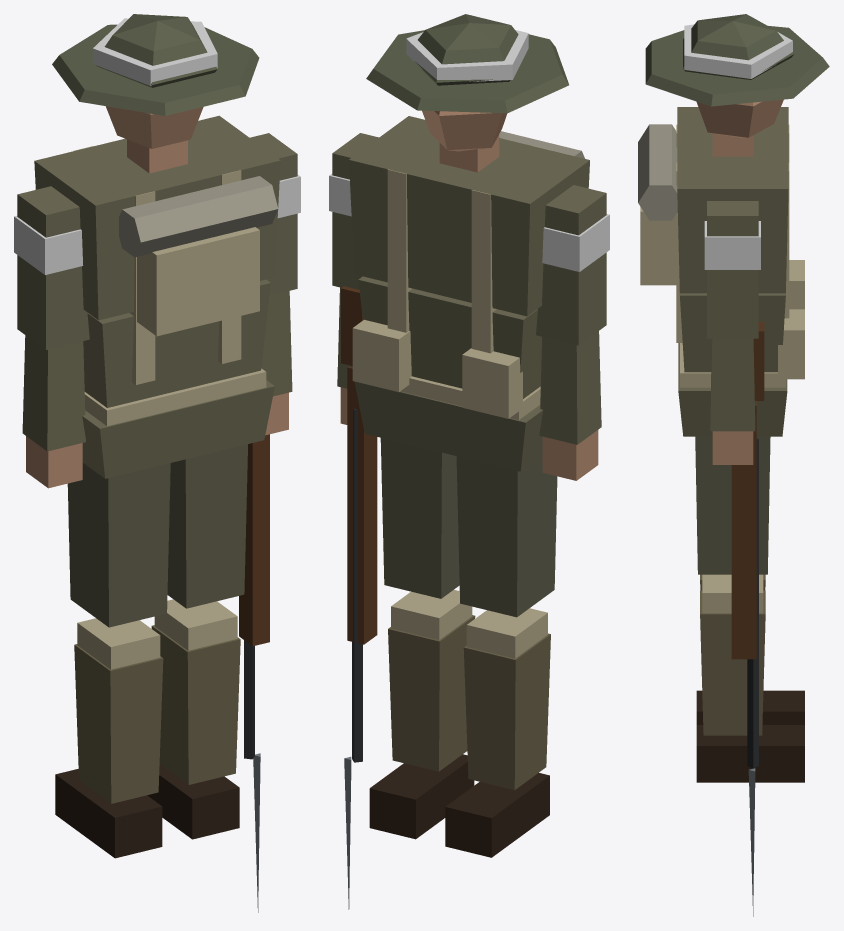
File: soldier_c20_rifle_lod1.glb
The picture shows the model from 3 angles, left to right: view 1: azimuth 30°, elevation 25°; view 2: azimuth 150°, elevation 25°; view 3: azimuth 270°, elevation 25°; orthographic projection. The views are drawn at different scales.
Parts seen in each view (by area): view 1: c20_rifle_lod1_static; view 2: c20_rifle_lod1_static; view 3: c20_rifle_lod1_static.
Boxes of the visible parts, x1=… form: c20_rifle_lod1_static: x1=14, y1=14, x2=300, y2=912; c20_rifle_lod1_static: x1=329, y1=14, x2=609, y2=909; c20_rifle_lod1_static: x1=638, y1=14, x2=829, y2=916.
Bounding box in the file's own units: 0.595 × 2.07 × 0.425.
